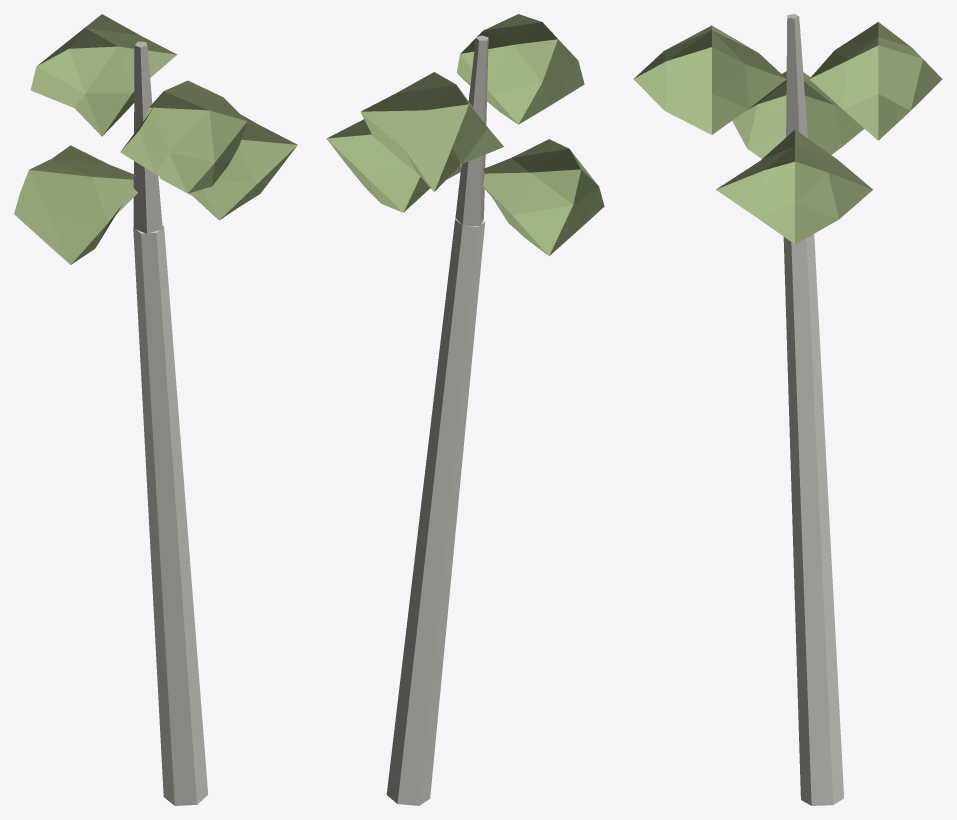
File: birch_v12.glb
3 renders of one model, left to right at view 1: azimuth 30°, elevation 25°; view 2: azimuth 150°, elevation 25°; view 3: azimuth 270°, elevation 25°, orthographic. The views are drawn at different scales.
Visible parts, largest first — view 1: lod0; view 2: lod0; view 3: lod0.
Part boxes in pixels (x1=…): lod0: x1=14, y1=14, x2=297, y2=805; lod0: x1=326, y1=14, x2=604, y2=805; lod0: x1=633, y1=14, x2=942, y2=805.
Size of what is drawn, in the model's own units: 1.91 by 5.01 by 1.86.
